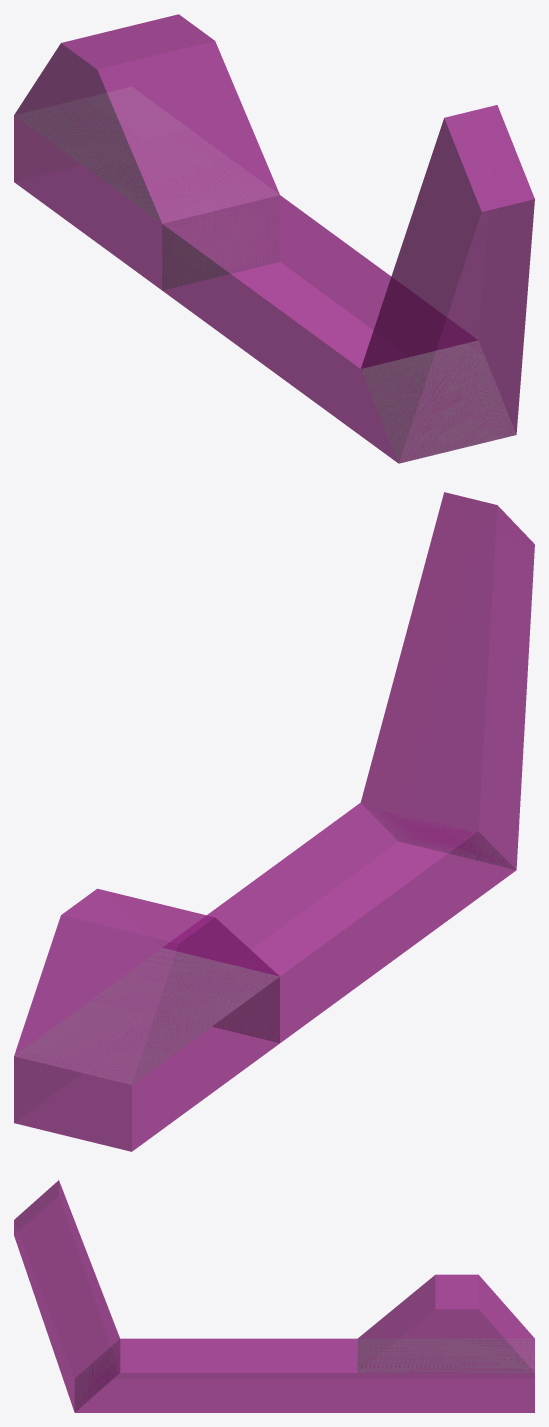
File: SM_Veh_E_Scooter_01_Collision.fbx
3 renders of one model, top to bottom at view 1: azimuth 30°, elevation 25°; view 2: azimuth 150°, elevation 25°; view 3: azimuth 270°, elevation 25°, orthographic. The views are drawn at different scales.
Parts seen in each view (by area): view 1: SM_Veh_E_Scooter_01_Collision; view 2: SM_Veh_E_Scooter_01_Collision; view 3: SM_Veh_E_Scooter_01_Collision.
Boxes of the visible parts, x1,y1,x2,y2 form: SM_Veh_E_Scooter_01_Collision: (14,14,534,463); SM_Veh_E_Scooter_01_Collision: (14,492,534,1151); SM_Veh_E_Scooter_01_Collision: (14,1180,534,1412).
Size of the model in its own units: 21.34 by 60.15 by 137.
